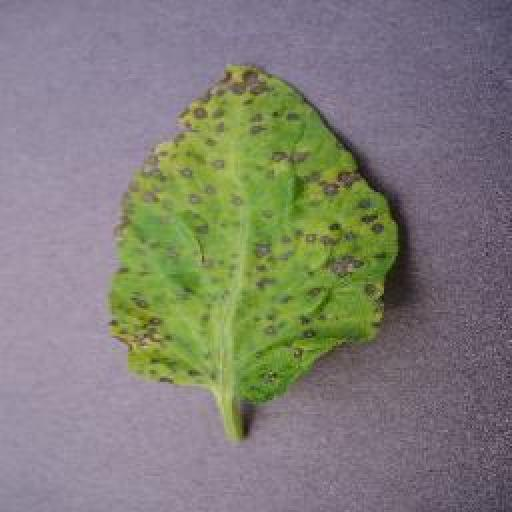disease_tomato: (111, 61, 403, 407)
